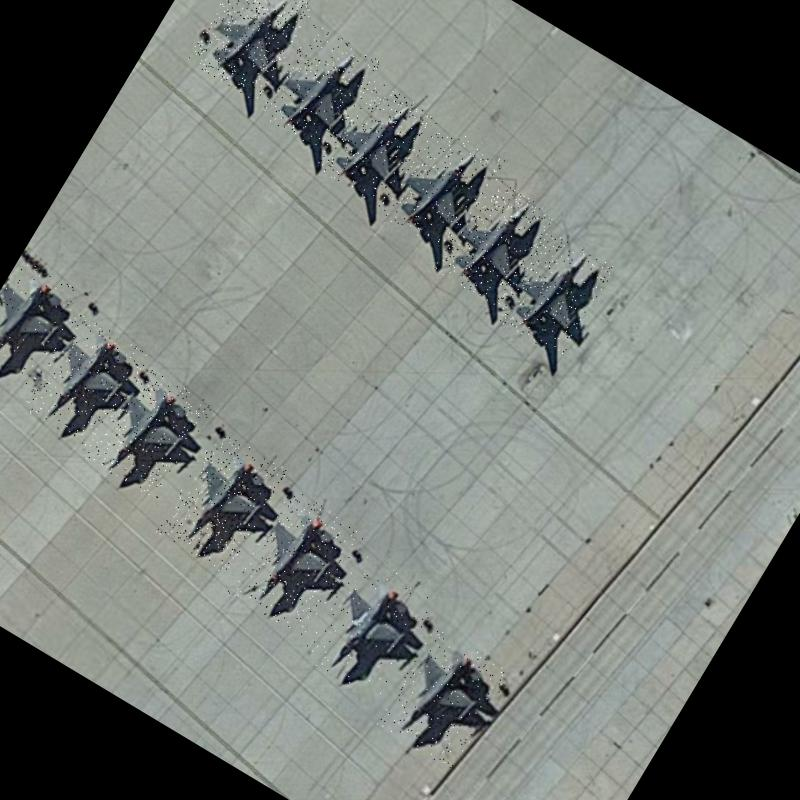A5: (225, 487, 367, 640), (299, 552, 439, 702), (154, 428, 288, 575), (375, 626, 511, 770), (17, 310, 147, 449), (84, 363, 213, 501), (380, 119, 506, 256), (431, 173, 556, 309), (310, 74, 436, 208), (258, 21, 380, 154), (492, 226, 614, 358), (185, 0, 314, 103), (0, 256, 84, 388)
